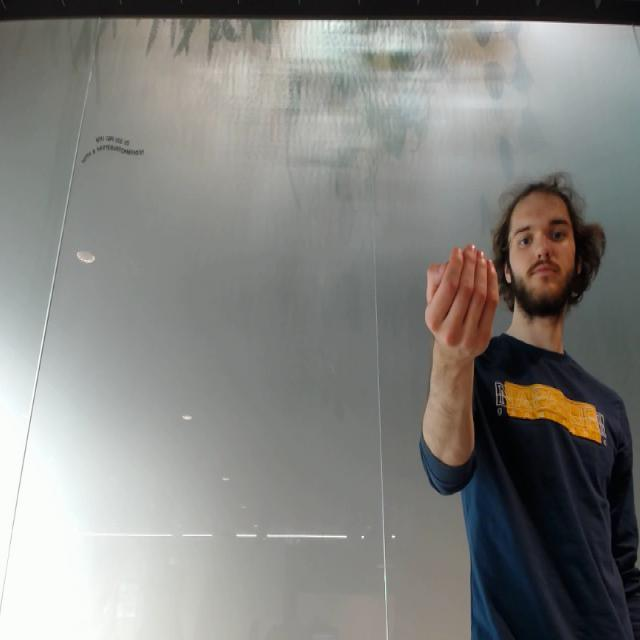forward: (413, 240, 503, 354)
